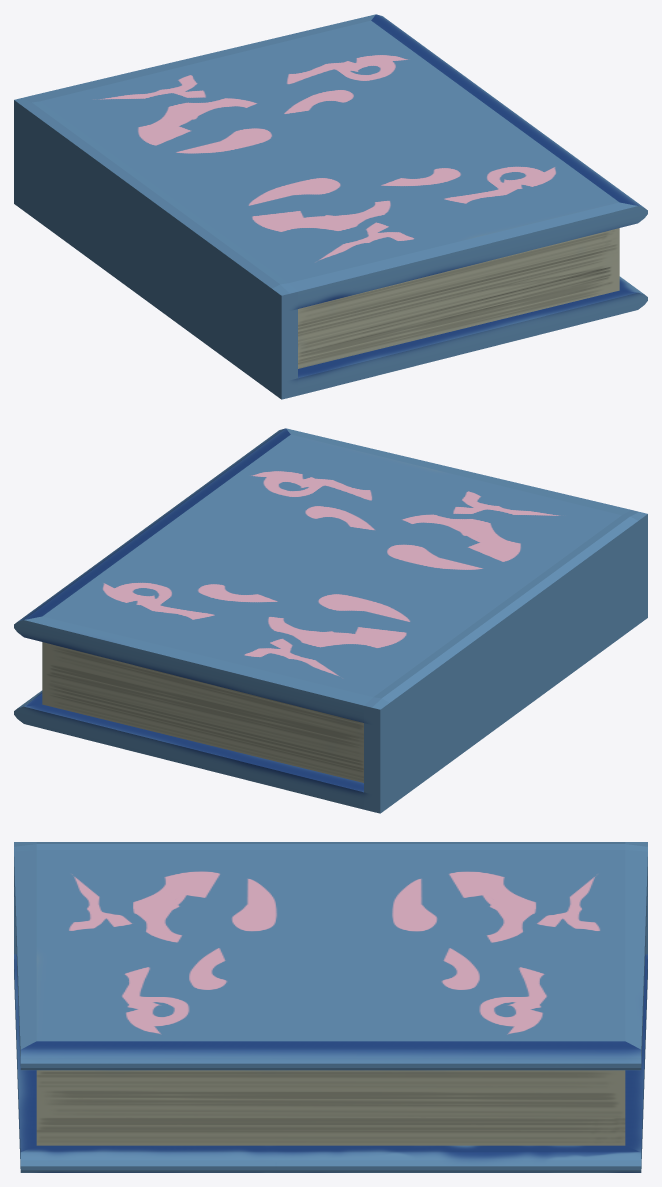
The model's file is MagicBook.FBX.
The picture shows the model from 3 angles, top to bottom: view 1: azimuth 30°, elevation 25°; view 2: azimuth 150°, elevation 25°; view 3: azimuth 270°, elevation 25°; orthographic projection. The views are drawn at different scales.
Visible parts, largest first — view 1: Box001; view 2: Box001; view 3: Box001.
Boxes of the visible parts, left/top/right/bottom form: Box001: left=14, top=14, right=647, bottom=399; Box001: left=14, top=428, right=647, bottom=813; Box001: left=14, top=842, right=647, bottom=1172.
Bounding box in the file's own units: 11.15 × 3.14 × 14.
1 material, 1 textured.
